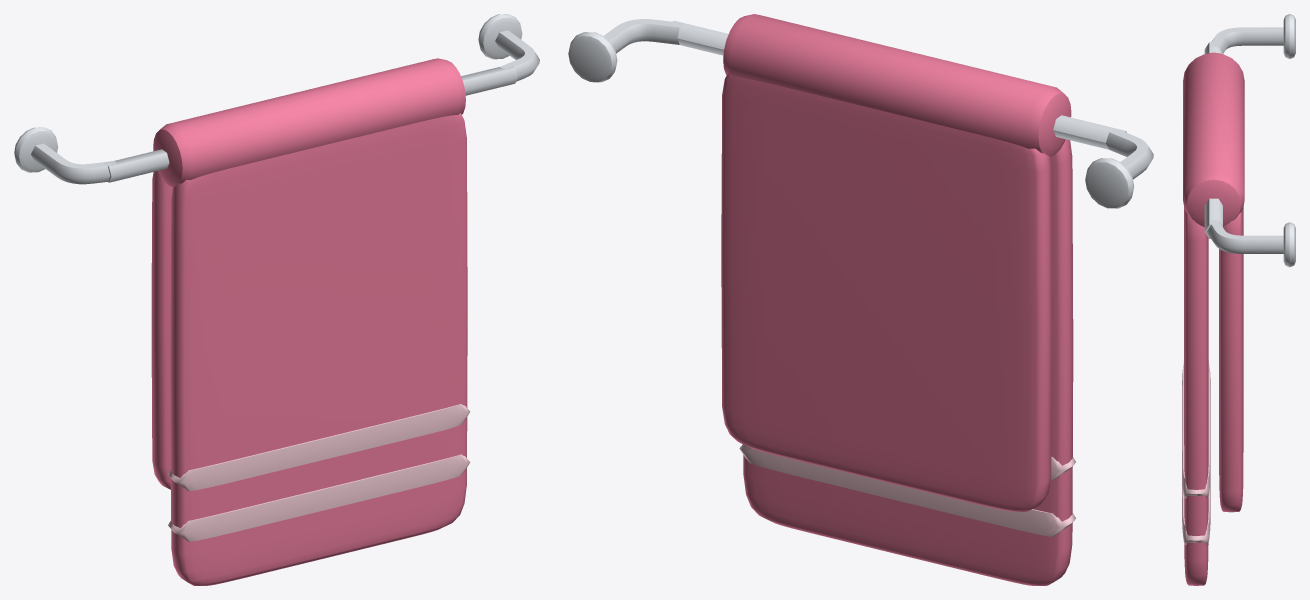
Rendered from toalheiro_barra_toalha_rosa.glb.
3 renders of one model, left to right at view 1: azimuth 30°, elevation 25°; view 2: azimuth 150°, elevation 25°; view 3: azimuth 270°, elevation 25°, orthographic. The views are drawn at different scales.
Parts seen in each view (by area): view 1: toalheiro_barra_toalha_rosa; view 2: toalheiro_barra_toalha_rosa; view 3: toalheiro_barra_toalha_rosa.
Boxes of the visible parts, x1,y1,x2,y2 form: toalheiro_barra_toalha_rosa: (14,14,539,585); toalheiro_barra_toalha_rosa: (568,14,1153,585); toalheiro_barra_toalha_rosa: (1182,14,1295,585).
Bounding box in the file's own units: 0.524 × 0.45 × 0.111.
Materials: 1 (1 with a texture image).
